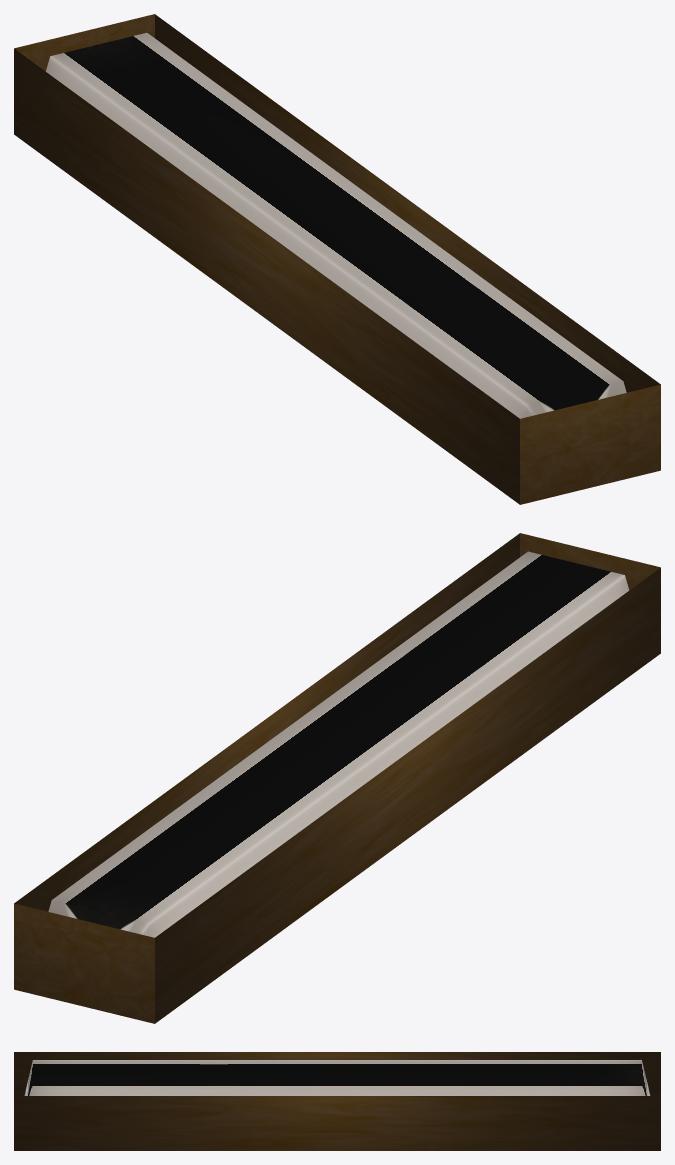
The picture shows the model from 3 angles, top to bottom: view 1: azimuth 30°, elevation 25°; view 2: azimuth 150°, elevation 25°; view 3: azimuth 270°, elevation 25°; orthographic projection. The views are drawn at different scales.
Parts seen in each view (by area): view 1: CeilingLamp_0; view 2: CeilingLamp_0; view 3: CeilingLamp_0.
Boxes of the visible parts, <box> form: CeilingLamp_0: <box>14,14,660,504</box>; CeilingLamp_0: <box>14,533,660,1023</box>; CeilingLamp_0: <box>14,1052,660,1150</box>.
Bounding box in the file's own units: 0.2092 × 0.1222 × 1.3.
Materials: 1 (1 with a texture image).
